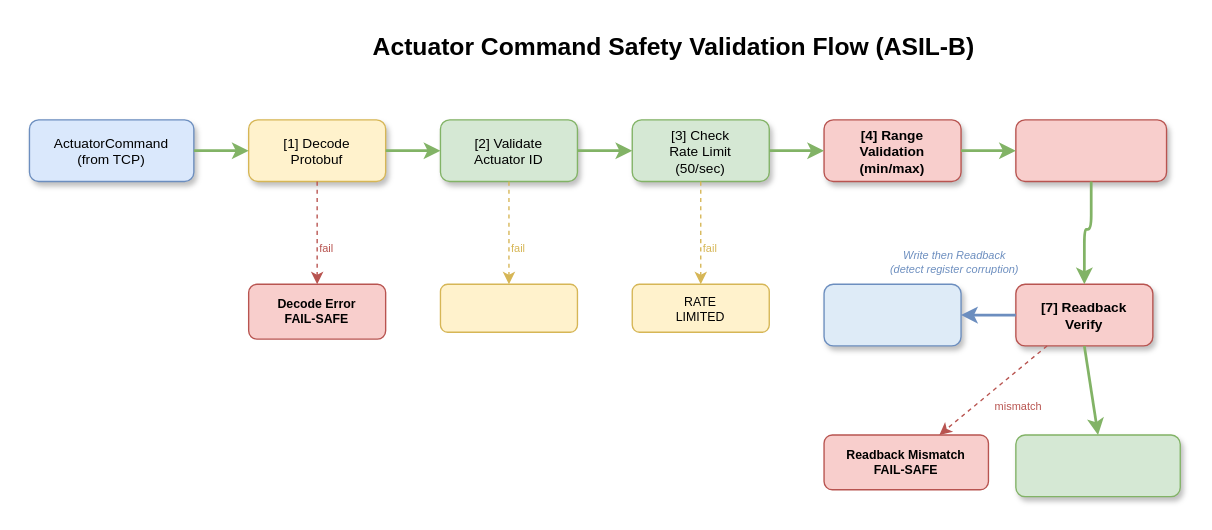
This 1212x530 diagram has some shape labels left out. Here are the shapes that lost their labels. From the top down, the centre of each, then its label:
(x=1092, y=152): [5] Clamp to Safety Limits (e.g. 95% max)
(x=508, y=307): INVALID ACTUATOR
(x=893, y=316): [6] Write PWM Register
(x=1098, y=467): [8] Send ActuatorResponse (OK)
